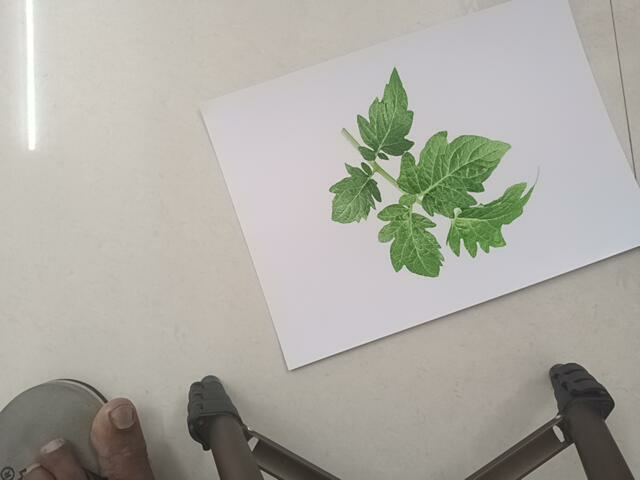Tomamto_Leaf_Healthy: (306, 68, 539, 282)
